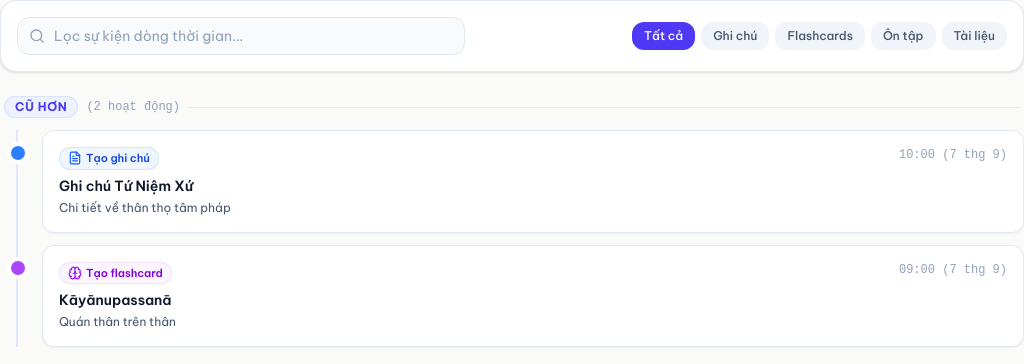
Scenario: ResearchTimeline Component › filters events by search query
Type "Kāyā" into the field with test id "timeline-search-input" at (241, 36), box [17,17,465,55]
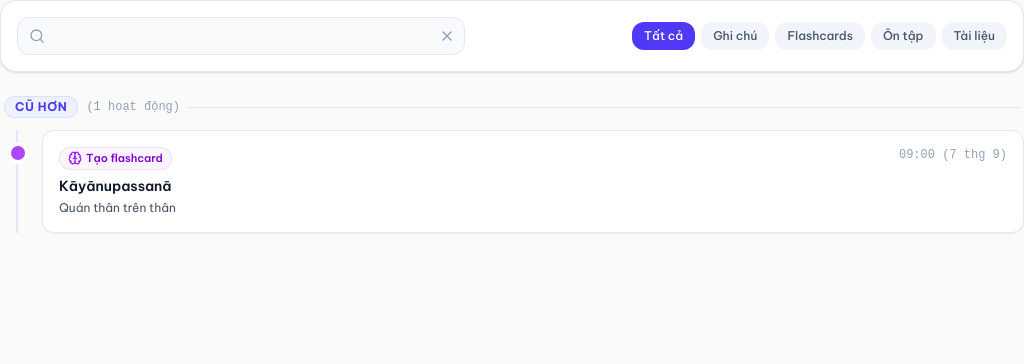
Check: the heading "Kāyānupassanā" is shown, box [59,176,172,194]
Check: the heading "Ghi chú Tứ Niệm Xứ" is gone
